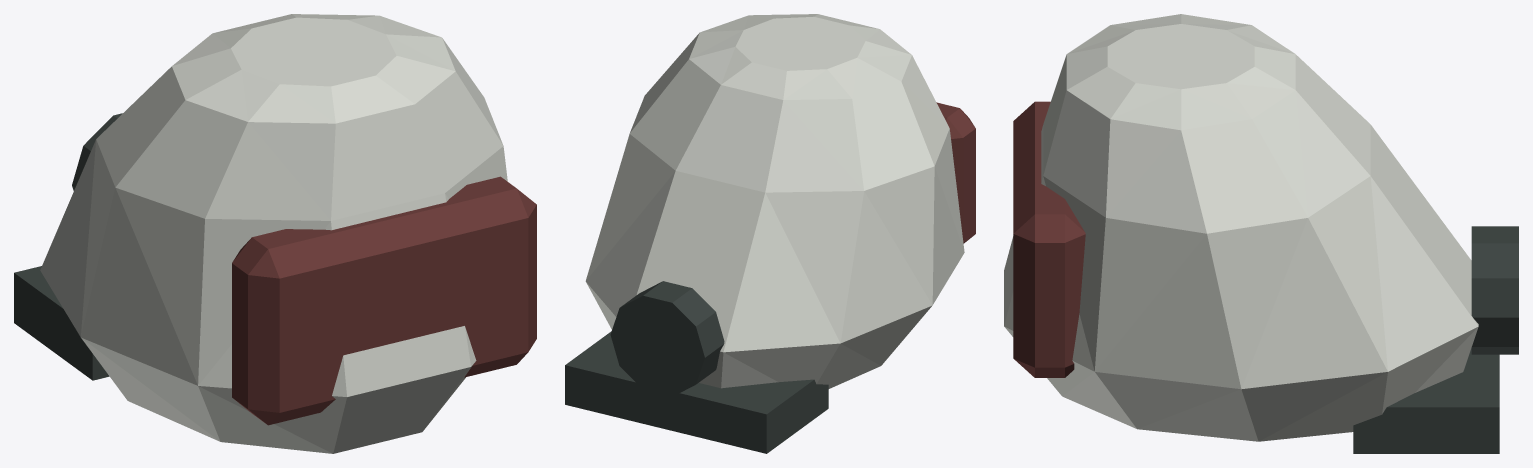
The model's file is cleansweeper.obj.
3 renders of one model, left to right at view 1: azimuth 30°, elevation 25°; view 2: azimuth 150°, elevation 25°; view 3: azimuth 270°, elevation 25°, orthographic. The views are drawn at different scales.
Parts seen in each view (by area): view 1: cleansweeper; view 2: cleansweeper; view 3: cleansweeper.
Part boxes in pixels (<box>): cleansweeper: <box>14,14,536,453</box>; cleansweeper: <box>565,14,975,453</box>; cleansweeper: <box>1004,14,1518,453</box>.
Size of the model in its own units: 0.5 by 0.435 by 0.5983.
